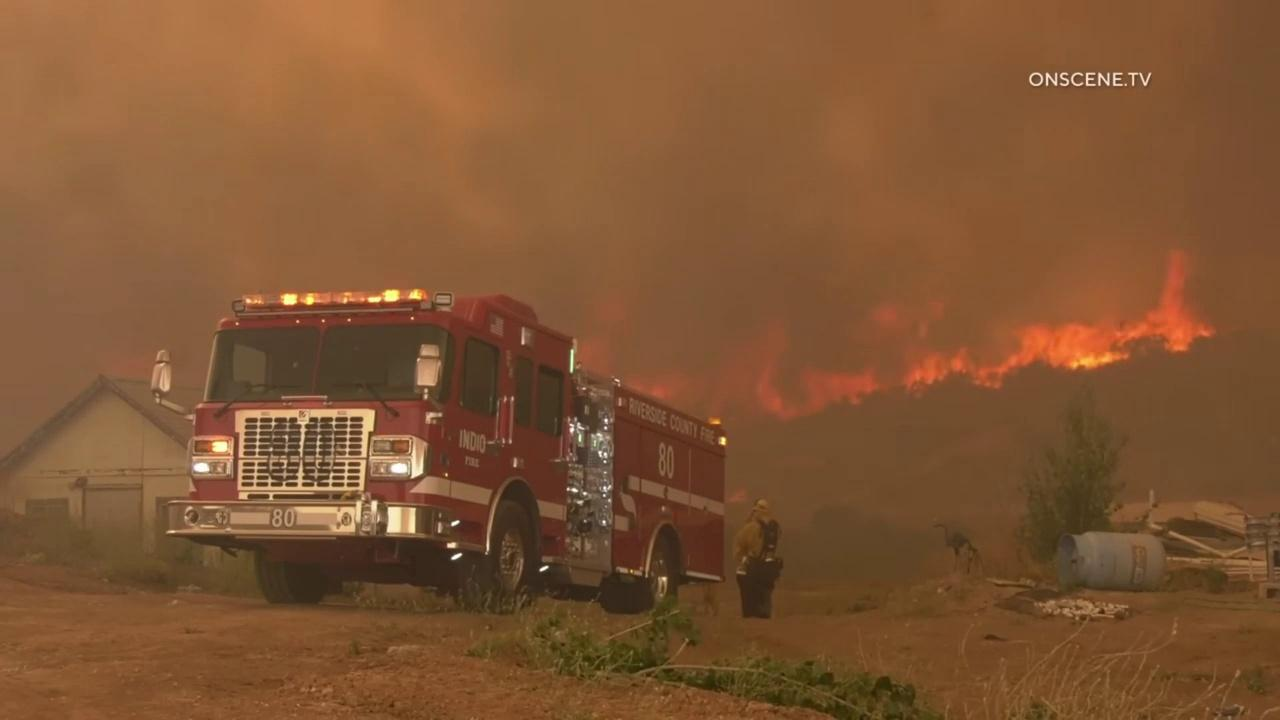fire: (706, 246, 1222, 415), (626, 373, 672, 400)
smoke: (0, 0, 1280, 428)
